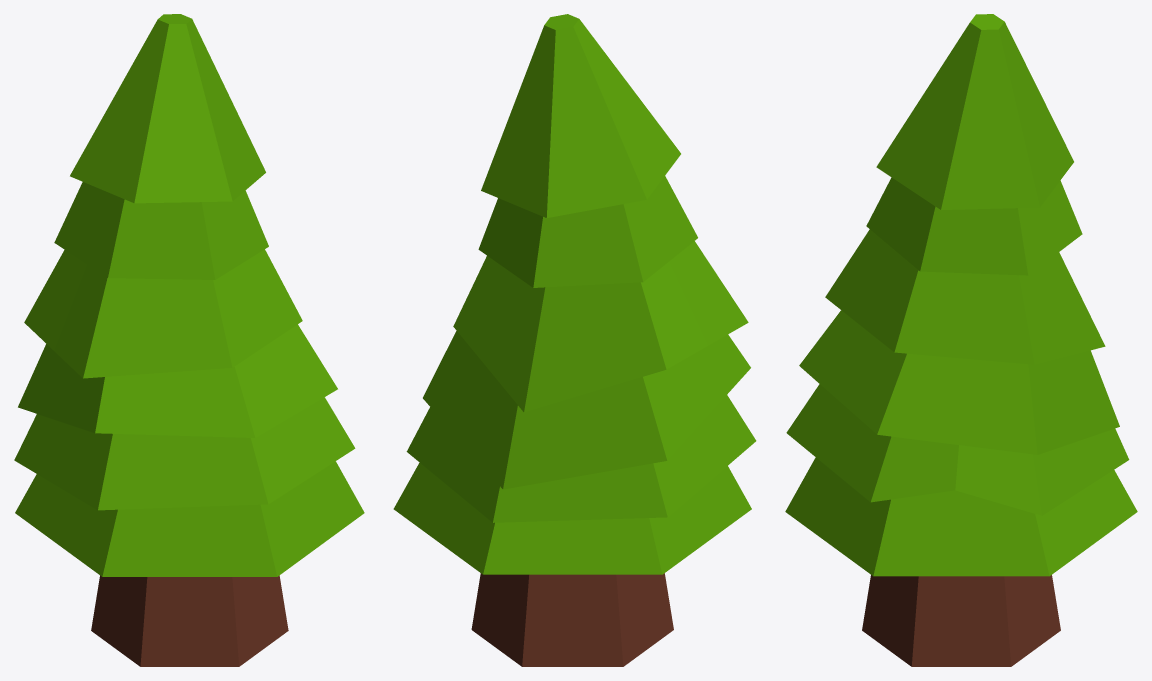
Rendered from Tree_08.fbx.
3 views of the same model, side by side, from view 1: azimuth 30°, elevation 25°; view 2: azimuth 150°, elevation 25°; view 3: azimuth 270°, elevation 25° (orthographic). The views are drawn at different scales.
Parts seen in each view (by area): view 1: Cylinder.004, Cylinder.002, Cylinder.006, Cylinder.001, Cylinder.003, Cylinder, Cylinder.005; view 2: Cylinder.004, Cylinder.003, Cylinder.006, Cylinder.001, Cylinder.002, Cylinder, Cylinder.005; view 3: Cylinder.003, Cylinder.001, Cylinder.006, Cylinder.004, Cylinder.002, Cylinder, Cylinder.005.
Part boxes in pixels (x1,y1,x2,y2): Cylinder.004: (24,249,302,378); Cylinder.002: (14,397,355,510); Cylinder.006: (70,14,265,203); Cylinder.001: (15,461,364,576); Cylinder.003: (18,324,337,437); Cylinder: (91,575,288,666); Cylinder.005: (54,182,268,279); Cylinder.004: (453,241,748,412); Cylinder.003: (423,331,750,489); Cylinder.006: (481,14,680,217); Cylinder.001: (393,462,751,574); Cylinder.002: (406,395,756,522); Cylinder: (471,573,673,666); Cylinder.005: (478,176,697,287); Cylinder.003: (799,310,1119,454); Cylinder.001: (785,457,1137,576); Cylinder.006: (876,14,1073,209); Cylinder.004: (825,229,1105,364); Cylinder.002: (786,384,1129,515); Cylinder: (862,575,1060,666); Cylinder.005: (866,177,1082,275).
Bounding box in the file's own units: 181 × 386 × 202.
